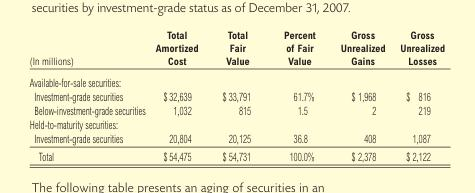table: (28, 28, 444, 162)
table column: (28, 28, 149, 162), (327, 28, 391, 162), (266, 28, 327, 162), (149, 28, 209, 162), (209, 28, 266, 162), (391, 28, 444, 162)
table column header: (28, 28, 444, 70)
table projected row header: (28, 70, 444, 88), (28, 116, 444, 130)
table row: (28, 28, 444, 70), (28, 70, 444, 88), (28, 130, 444, 146), (28, 146, 444, 162), (28, 88, 444, 102), (28, 102, 444, 116), (28, 116, 444, 130)
